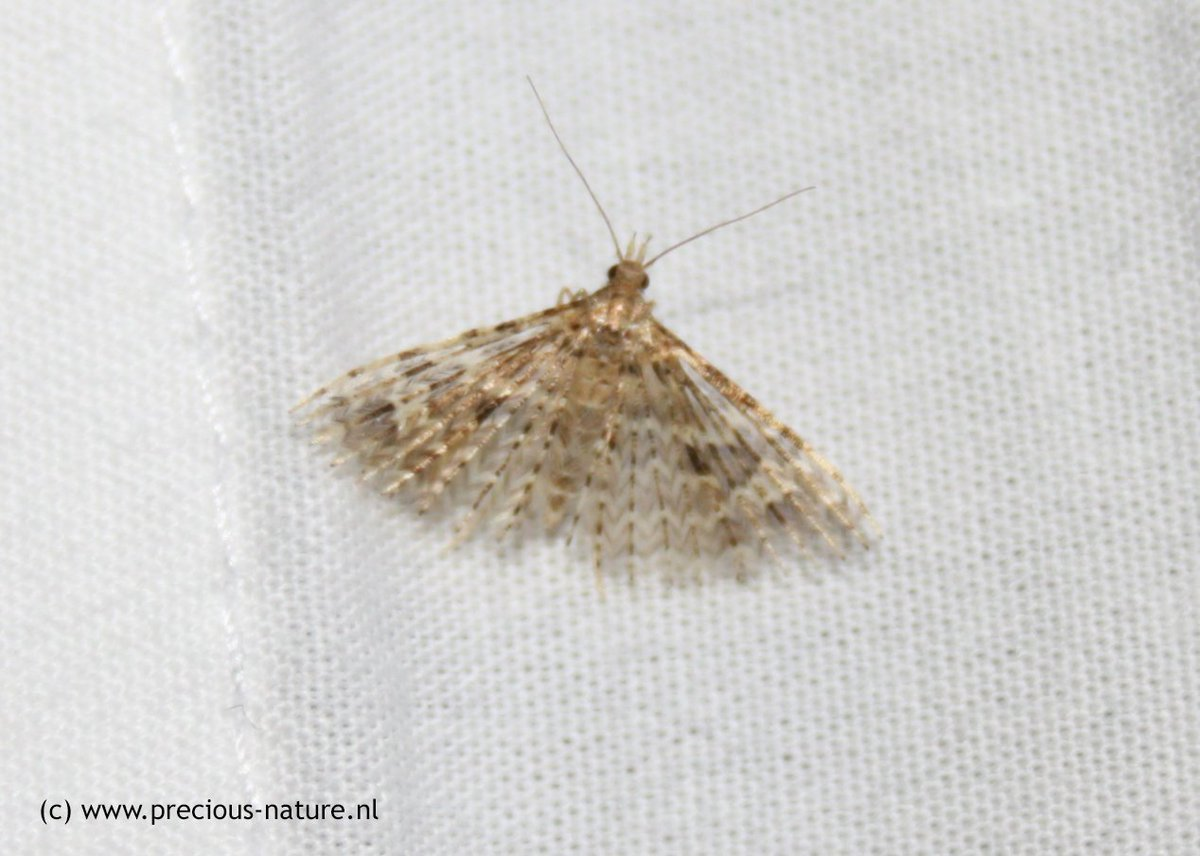Alucitidae: (277, 78, 879, 587)
moth: (279, 80, 881, 589)
